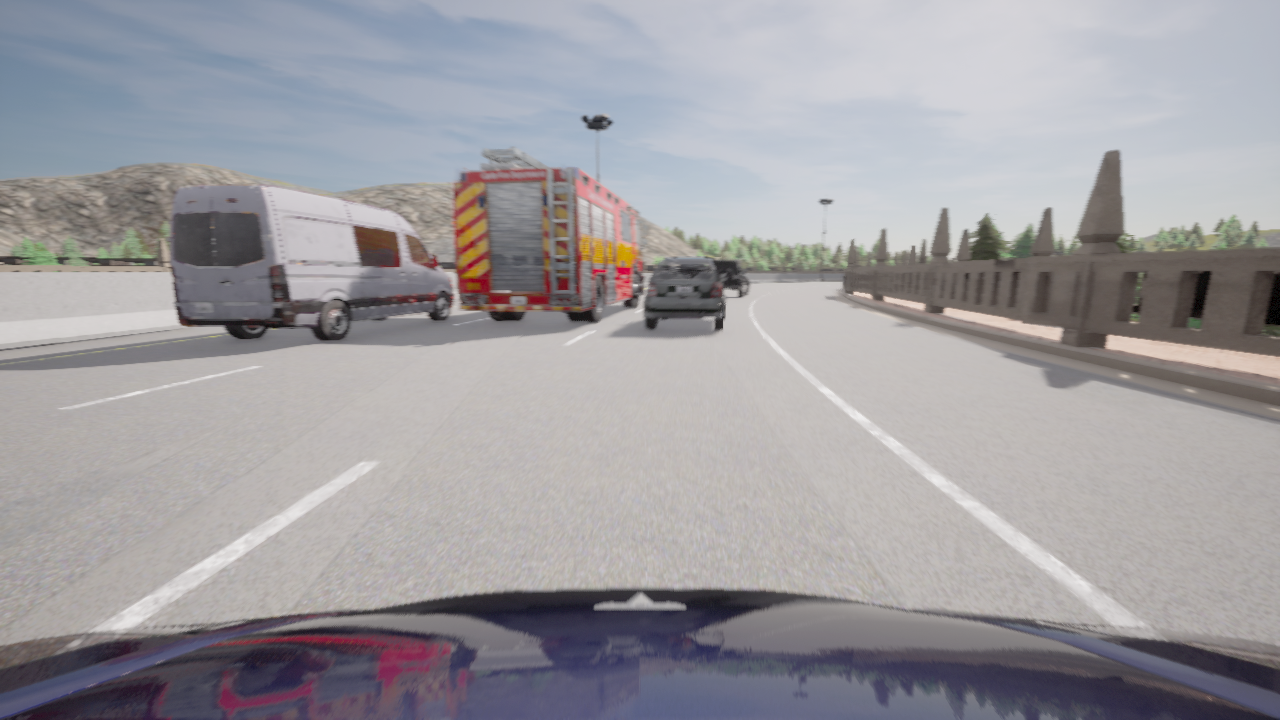cyclist: (0, 588, 1279, 719), (167, 185, 454, 341), (453, 148, 648, 322), (644, 257, 726, 330), (713, 259, 749, 297)
